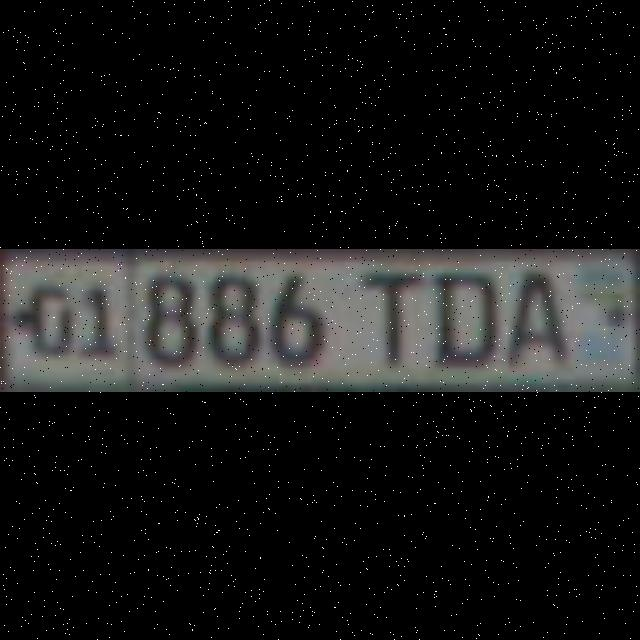0: (24, 281, 70, 355)
1: (74, 281, 114, 355)
6: (262, 269, 320, 363)
8: (136, 269, 192, 363), (202, 269, 254, 363)
A: (500, 269, 566, 363)
D: (426, 269, 492, 363)
T: (357, 269, 419, 359)
